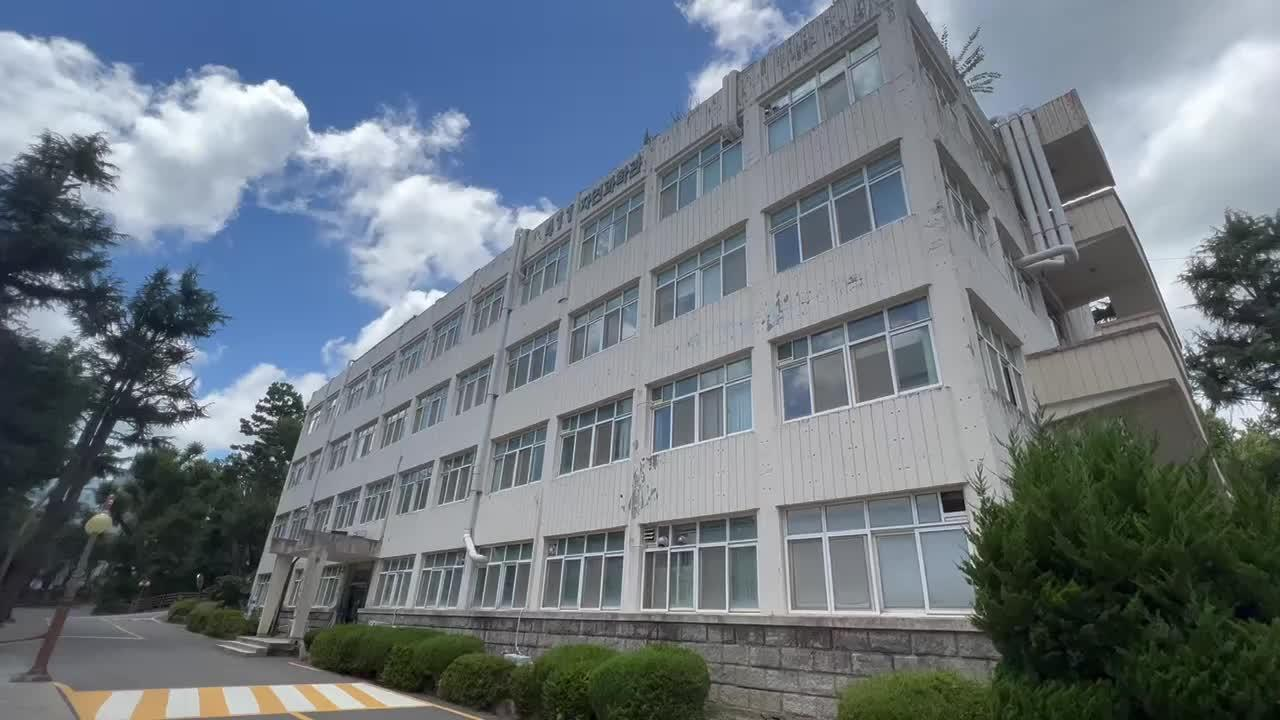building: (263, 139, 970, 618)
